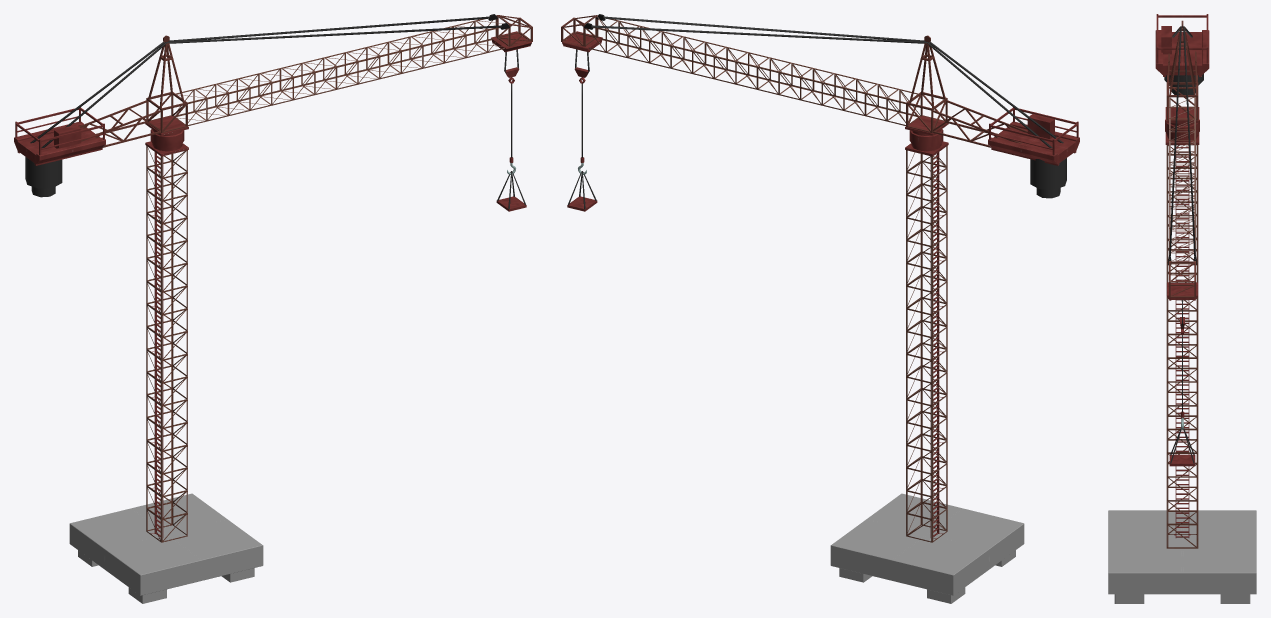
Rendered from Guindaste.fbx.
The picture shows the model from 3 angles, left to right: view 1: azimuth 30°, elevation 25°; view 2: azimuth 150°, elevation 25°; view 3: azimuth 270°, elevation 25°; orthographic projection. The views are drawn at different scales.
Visible parts, largest first — view 1: Base, TrelicasBaseLow, TrelicasPonteLow, Contrapeso, Parte Superior, Cabos, EscadaGuindaste, Gancho; view 2: Base, TrelicasBaseLow, TrelicasPonteLow, Contrapeso, Parte Superior, Cabos, EscadaGuindaste, Gancho; view 3: Base, TrelicasBaseLow, EscadaGuindaste, Contrapeso, TrelicasPonteLow, Parte Superior, Cabos, Gancho, Ponta.
Part boxes in pixels (x1=…): Base: x1=69, y1=493, x2=263, y2=603; TrelicasBaseLow: x1=146, y1=146, x2=187, y2=542; TrelicasPonteLow: x1=172, y1=15, x2=509, y2=125; Contrapeso: x1=14, y1=107, x2=105, y2=197; Parte Superior: x1=79, y1=42, x2=188, y2=156; Cabos: x1=30, y1=14, x2=510, y2=148; EscadaGuindaste: x1=150, y1=152, x2=163, y2=539; Gancho: x1=491, y1=31, x2=531, y2=211; Base: x1=830, y1=493, x2=1024, y2=603; TrelicasBaseLow: x1=906, y1=146, x2=947, y2=542; TrelicasPonteLow: x1=584, y1=15, x2=921, y2=125; Contrapeso: x1=988, y1=107, x2=1079, y2=198; Parte Superior: x1=905, y1=42, x2=1027, y2=156; Cabos: x1=583, y1=14, x2=1063, y2=148; EscadaGuindaste: x1=930, y1=152, x2=943, y2=539; Gancho: x1=562, y1=31, x2=602, y2=211; Base: x1=1108, y1=510, x2=1256, y2=603; TrelicasBaseLow: x1=1166, y1=145, x2=1198, y2=548; EscadaGuindaste: x1=1174, y1=146, x2=1190, y2=537; Contrapeso: x1=1155, y1=14, x2=1209, y2=94; TrelicasPonteLow: x1=1169, y1=97, x2=1195, y2=282; Parte Superior: x1=1165, y1=27, x2=1199, y2=144; Cabos: x1=1168, y1=20, x2=1196, y2=265; Gancho: x1=1166, y1=282, x2=1198, y2=466; Ponta: x1=1169, y1=261, x2=1195, y2=297.
Size of the model in its own units: 2256 by 2291 by 555.
